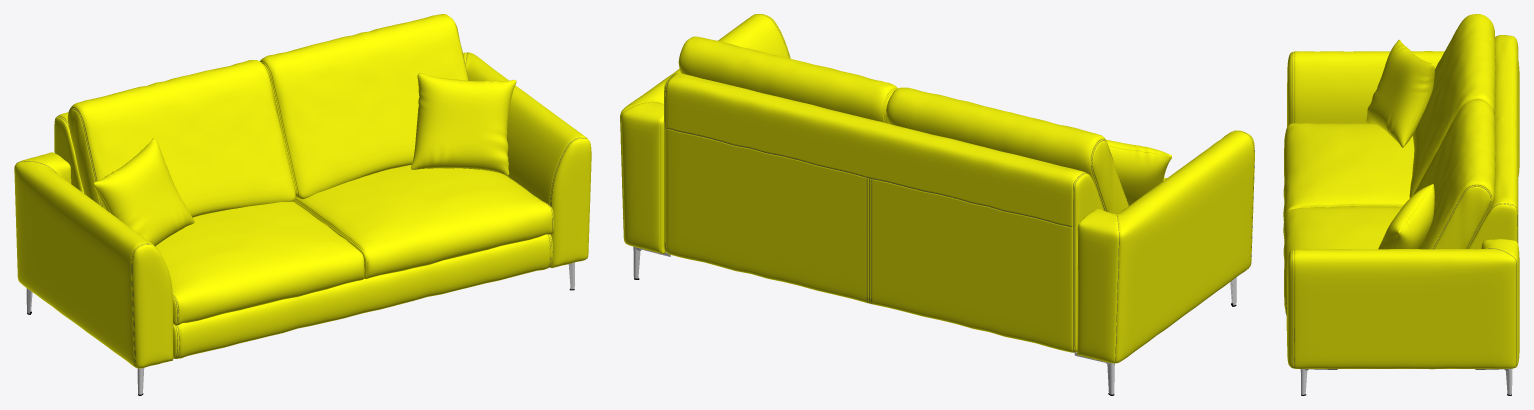
The picture shows the model from 3 angles, left to right: view 1: azimuth 30°, elevation 25°; view 2: azimuth 150°, elevation 25°; view 3: azimuth 270°, elevation 25°; orthographic projection. The views are drawn at different scales.
Visible parts, largest first — view 1: fabricbodygray, armleft, armright; view 2: fabricbodygray, armleft, armright, metaleg; view 3: fabricbodygray, armright, armleft, metaleg.
Boxes of the visible parts, x1,y1,x2,y2 form: fabricbodygray: (54, 14, 554, 358); armleft: (14, 152, 173, 368); armright: (463, 52, 591, 268); fabricbodygray: (664, 36, 1171, 352); armleft: (1077, 130, 1254, 363); armright: (620, 14, 790, 253); metaleg: (633, 246, 1236, 395); fabricbodygray: (1283, 14, 1518, 330); armright: (1287, 239, 1519, 369); armleft: (1287, 51, 1519, 176); metaleg: (1300, 368, 1512, 395).
Size of the model in its own units: 1.97 by 0.8768 by 0.9372.
11 materials, 5 textured.
